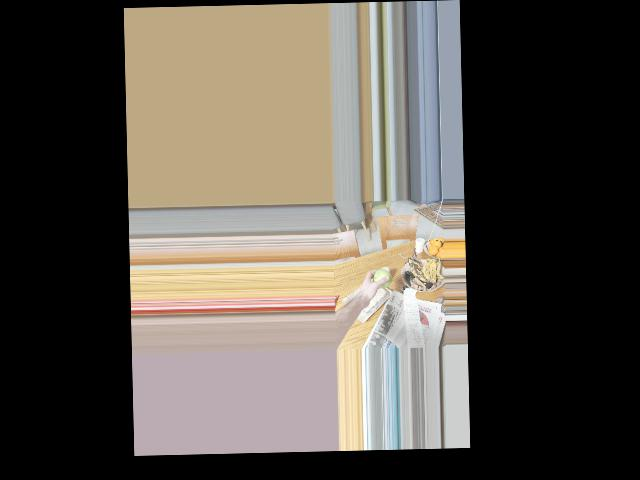apple: (371, 268, 392, 289)
